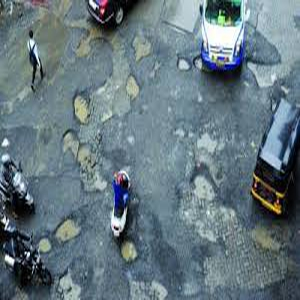pothole: (187, 163, 222, 201), (54, 215, 85, 245), (193, 128, 227, 152), (70, 90, 92, 125), (130, 33, 152, 61), (117, 240, 141, 262), (123, 75, 141, 100), (174, 55, 193, 73), (37, 237, 53, 254)
